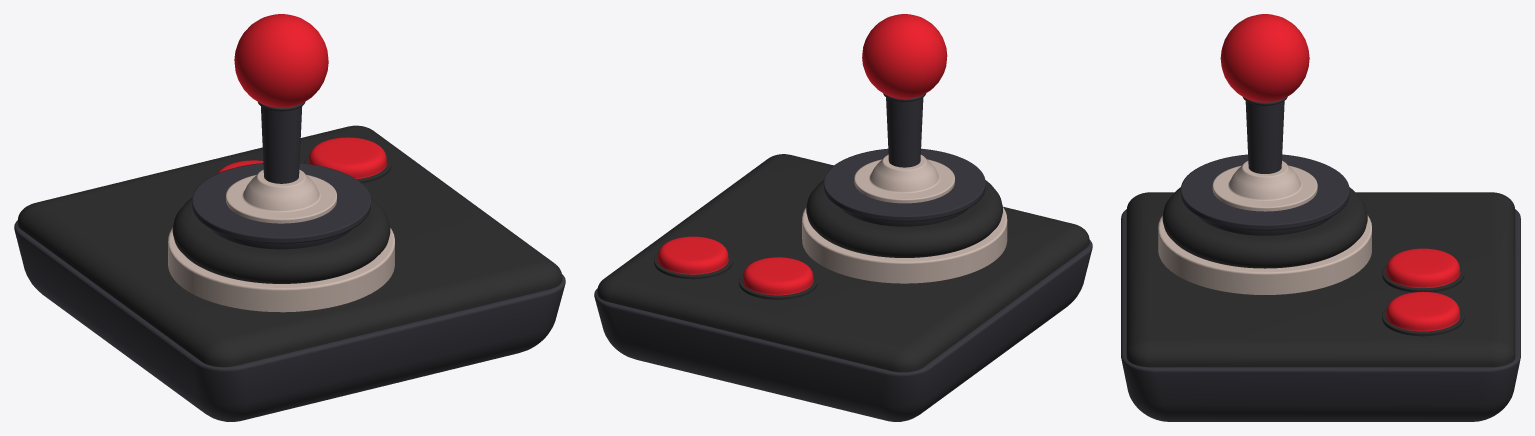
3 views of the same model, side by side, from view 1: azimuth 30°, elevation 25°; view 2: azimuth 150°, elevation 25°; view 3: azimuth 270°, elevation 25° (orthographic). The views are drawn at different scales.
Parts seen in each view (by area): view 1: Model; view 2: Model; view 3: Model.
Boxes of the visible parts, x1,y1,x2,y2 form: Model: [14, 14, 565, 421]; Model: [594, 14, 1092, 421]; Model: [1121, 14, 1520, 421].
Size of the model in its own units: 4.15 by 3.65 by 4.15.
